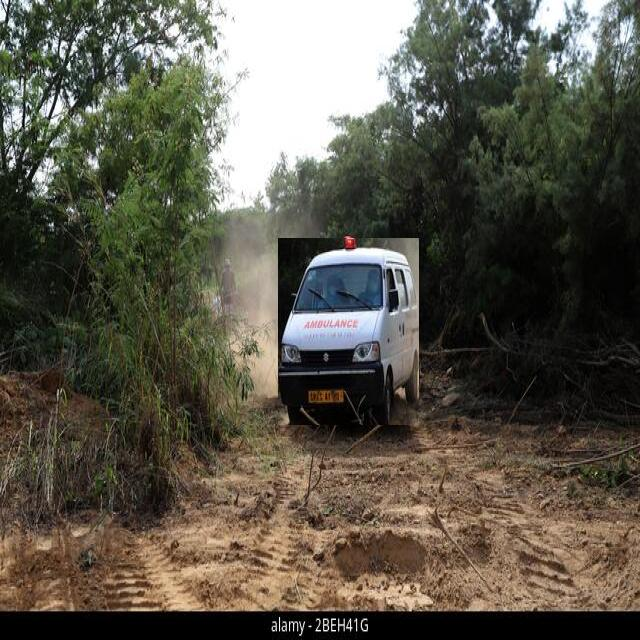emergency: (279, 238, 419, 425)
